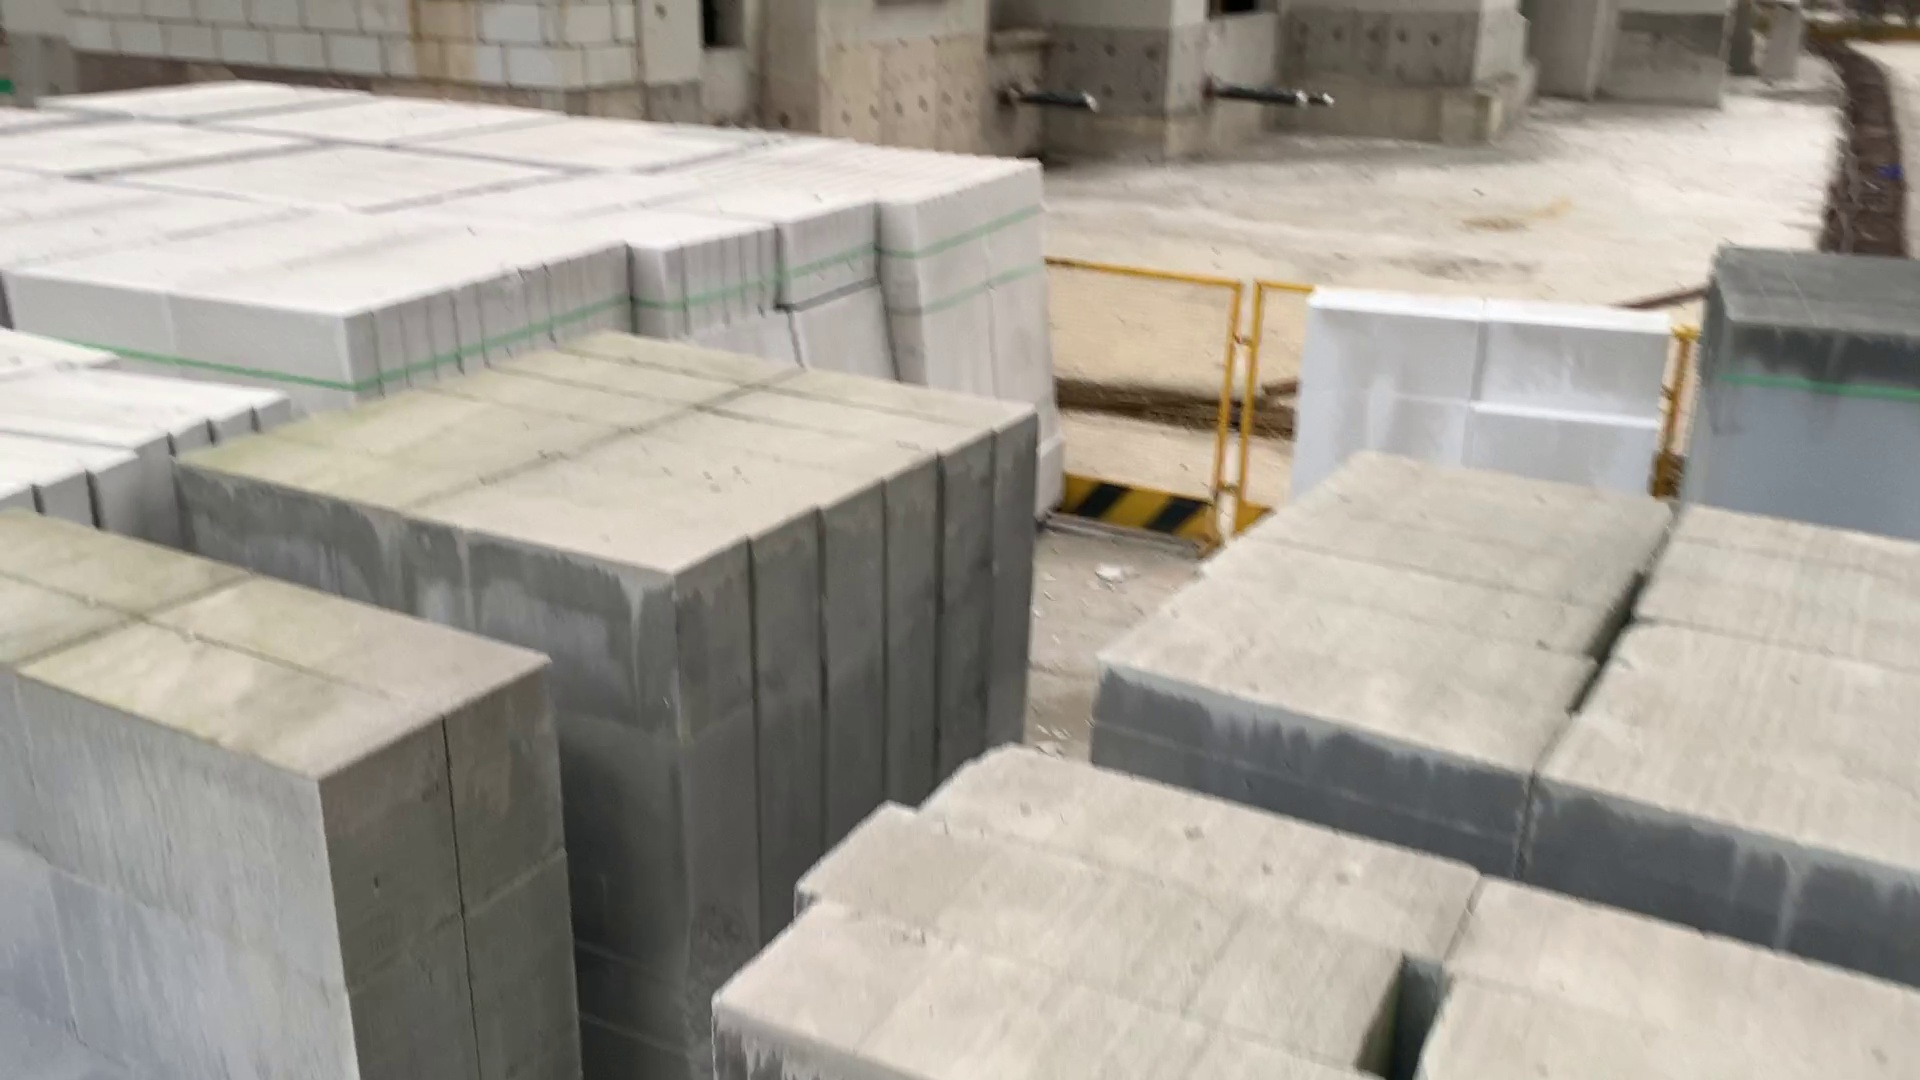brickwork: (711, 753, 1920, 1077), (1102, 446, 1920, 903), (3, 506, 564, 1080), (195, 334, 1040, 564), (38, 211, 600, 348), (1706, 241, 1920, 510), (4, 334, 276, 516), (504, 175, 862, 266), (692, 129, 1026, 211), (414, 116, 750, 183), (220, 91, 533, 142), (7, 113, 280, 171), (47, 66, 335, 116)
